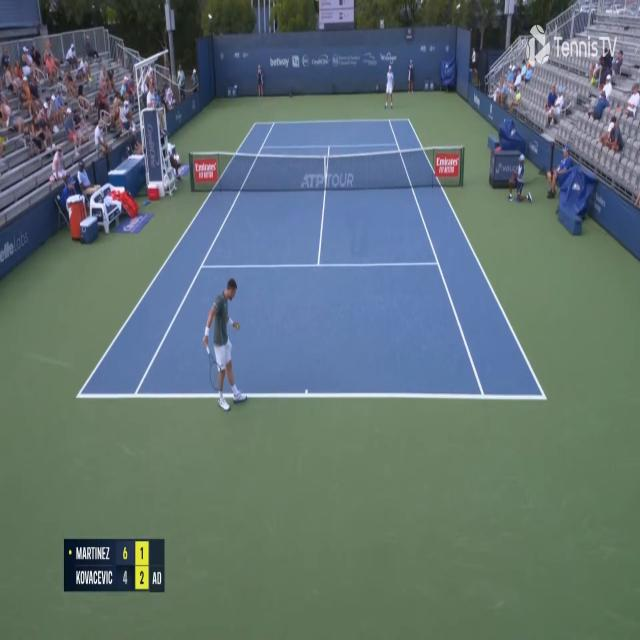tennis-player: (203, 272, 248, 417), (384, 63, 395, 108)
